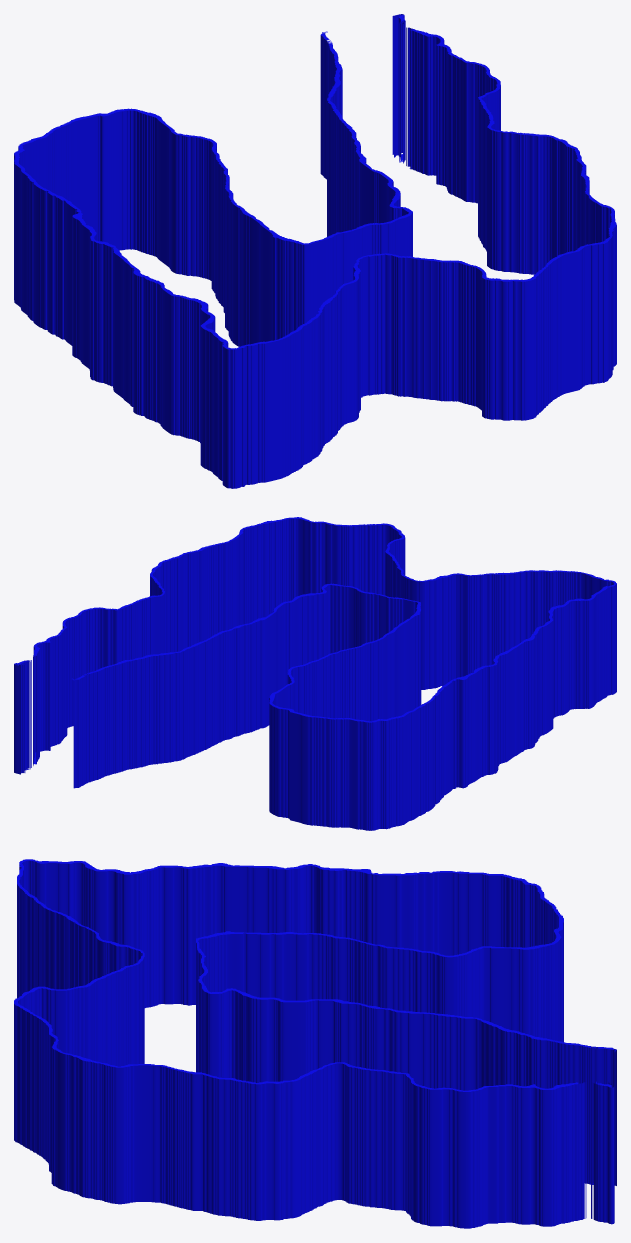
The model's file is TutorialCollider.fbx.
3 renders of one model, top to bottom at view 1: azimuth 30°, elevation 25°; view 2: azimuth 150°, elevation 25°; view 3: azimuth 270°, elevation 25°, orthographic. The views are drawn at different scales.
Visible parts, largest first — view 1: path2; view 2: path2; view 3: path2.
Part boxes in pixels (box(x1,y1,x2,y2)): path2: box(14, 14, 616, 488); path2: box(14, 517, 616, 830); path2: box(14, 859, 616, 1228).
Bounding box in the file's own units: 11.28 × 3.09 × 12.35.
